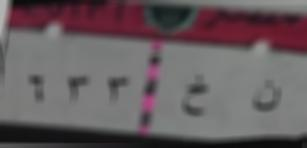3: (102, 64, 132, 110), (64, 73, 94, 107)
6: (26, 67, 48, 107)
khaa: (179, 72, 212, 120)
noon: (247, 75, 284, 117)
